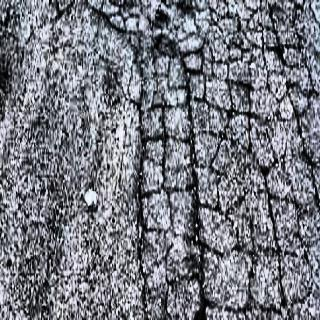alligator-crack: (136, 2, 319, 320)
